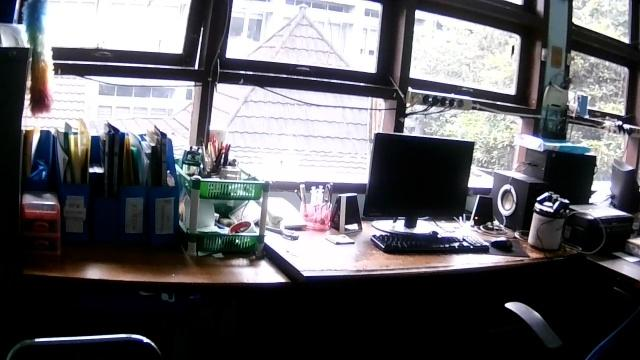AIO PC-Monitor-TV: (361, 132, 476, 220)
